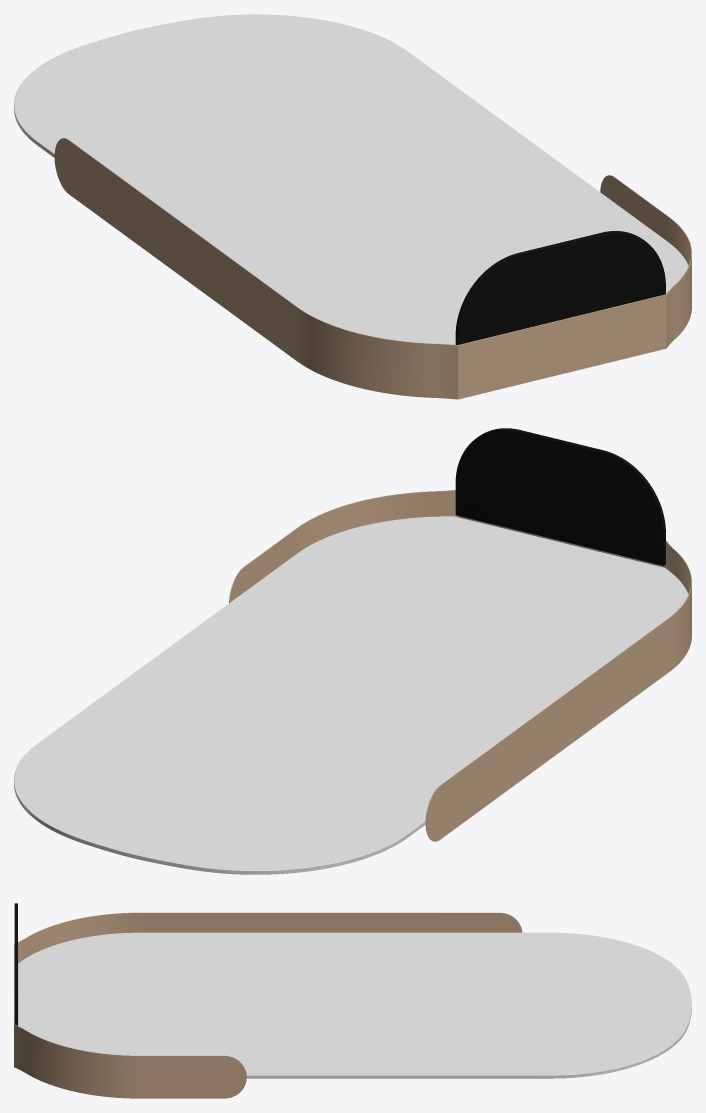
The model's file is dantemirror.gltf.
3 views of the same model, one above another, from view 1: azimuth 30°, elevation 25°; view 2: azimuth 150°, elevation 25°; view 3: azimuth 270°, elevation 25° (orthographic). The views are drawn at different scales.
Visible parts, largest first — view 1: Mesh; view 2: Mesh; view 3: Mesh.
Part boxes in pixels (x1=…): Mesh: x1=14, y1=14, x2=691, y2=399; Mesh: x1=14, y1=428, x2=691, y2=874; Mesh: x1=14, y1=903, x2=691, y2=1098.
Bounding box in the file's own units: 0.6 × 0.2 × 1.2.
Materials: 1 (1 with a texture image).
